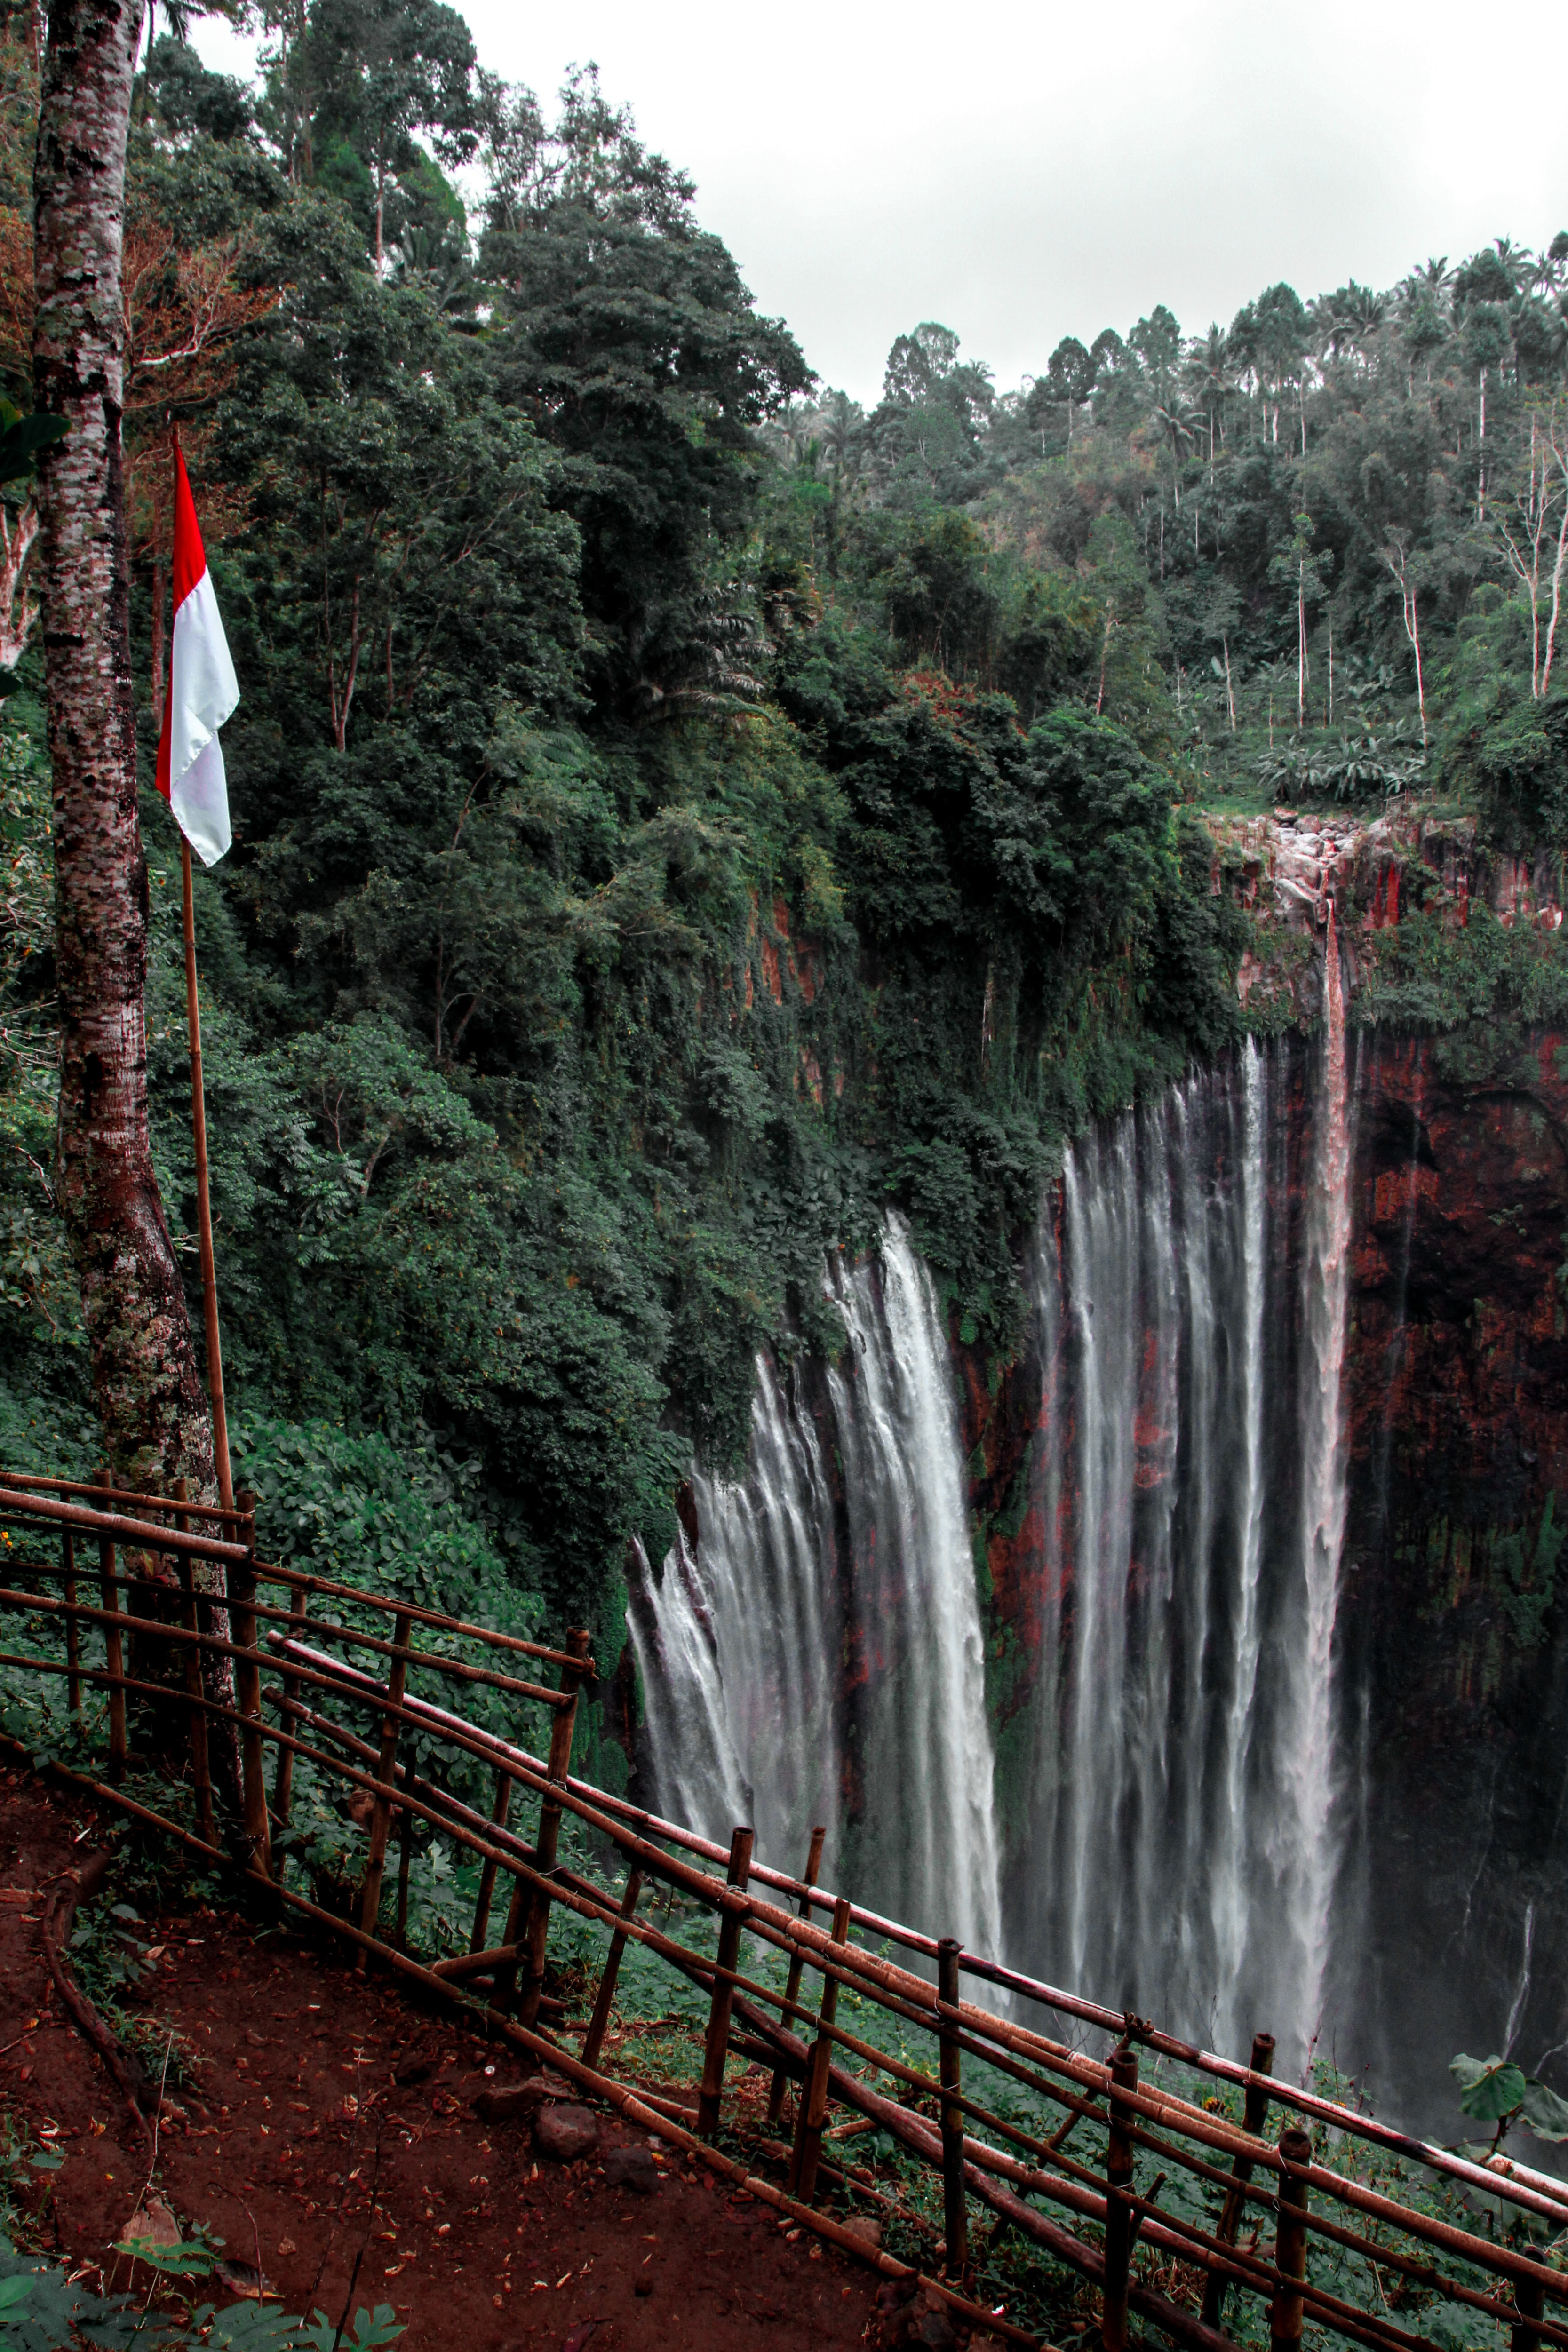Flag: (161, 451, 264, 878)
